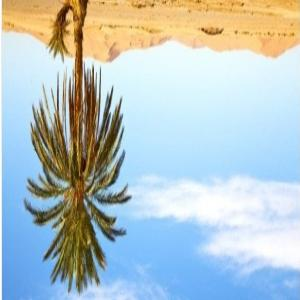palm tree: (23, 0, 131, 295)
